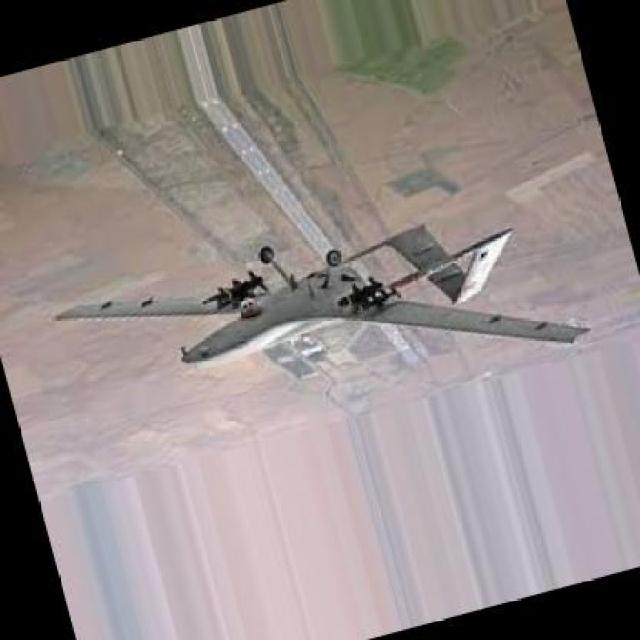iha: (48, 224, 591, 397)
